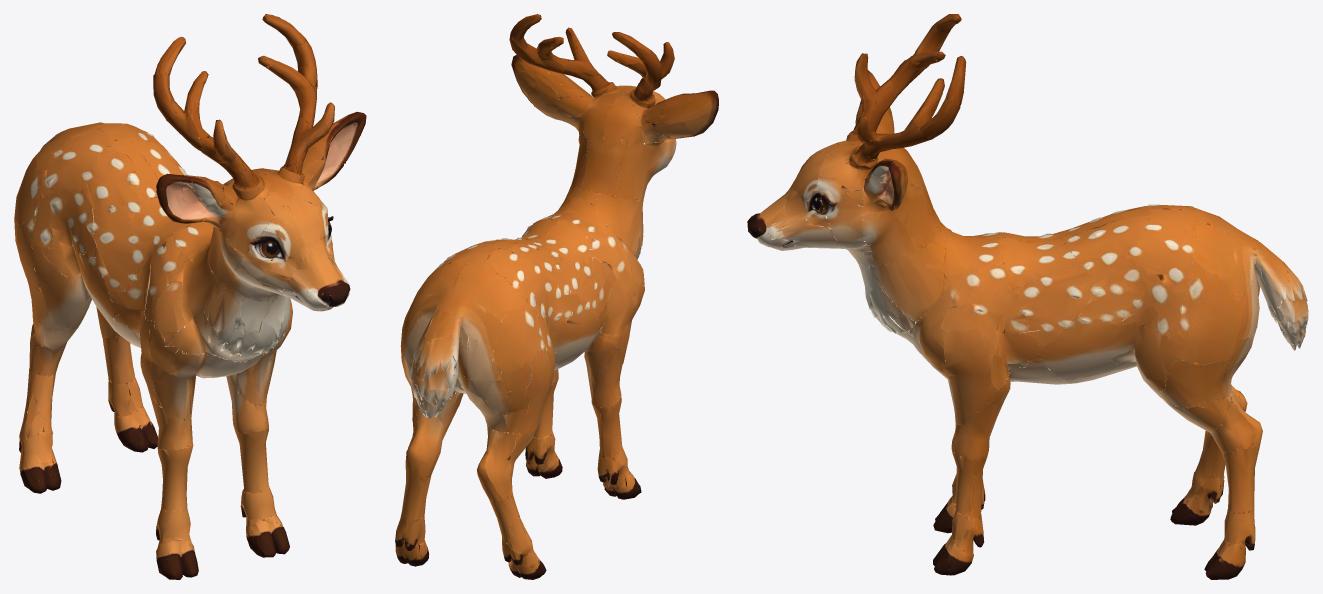
The model's file is deer.glb.
3 renders of one model, left to right at view 1: azimuth 30°, elevation 25°; view 2: azimuth 150°, elevation 25°; view 3: azimuth 270°, elevation 25°, orthographic. The views are drawn at different scales.
Visible parts, largest first — view 1: deer; view 2: deer; view 3: deer.
Part boxes in pixels (<box>): deer: <box>14,14,366,579</box>; deer: <box>395,14,718,579</box>; deer: <box>747,14,1308,579</box>.
Size of the model in its own units: 0.8787 by 2 by 1.98.
1 material, 1 textured.
